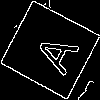A: (25, 24, 81, 77)
